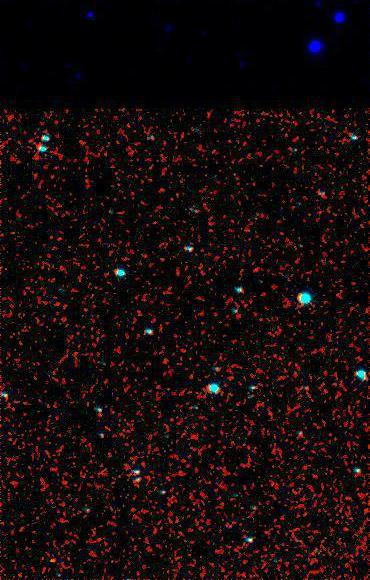star: (35, 546, 65, 576)
